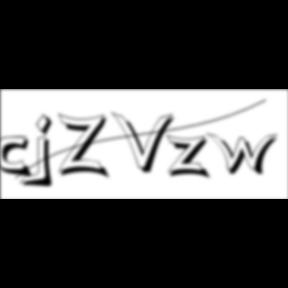V: (112, 110, 178, 176)
Z: (58, 112, 114, 181)
c: (0, 136, 36, 180)
j: (34, 113, 60, 191)
w: (207, 132, 285, 178)
z: (166, 134, 216, 182)
